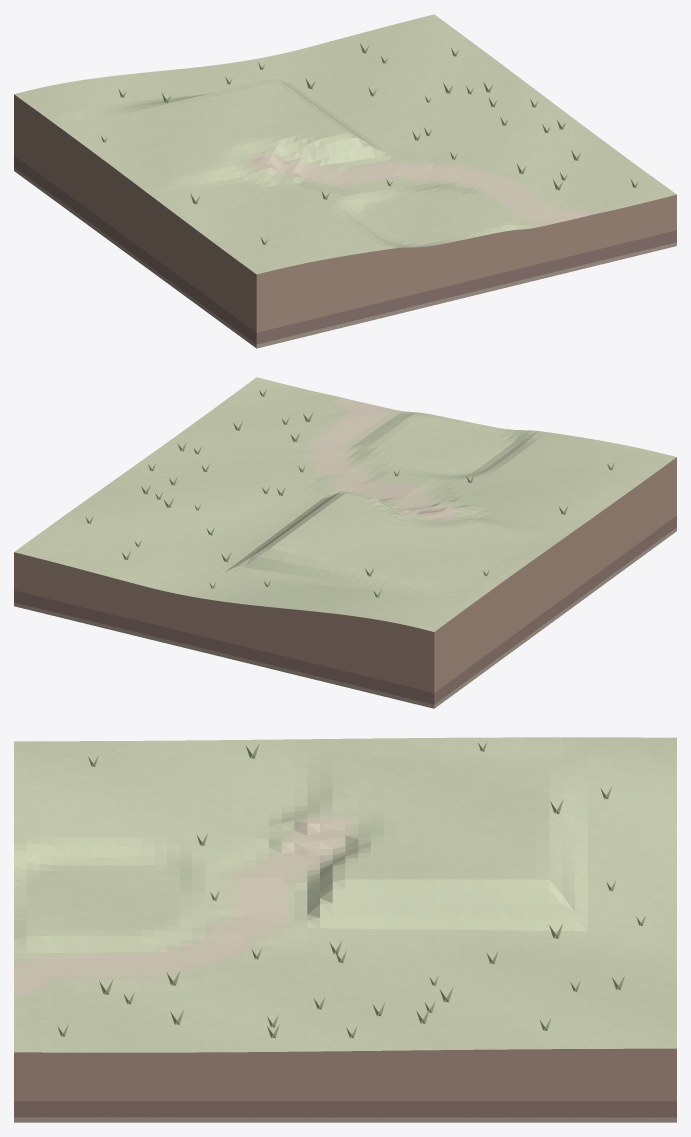
The picture shows the model from 3 angles, top to bottom: view 1: azimuth 30°, elevation 25°; view 2: azimuth 150°, elevation 25°; view 3: azimuth 270°, elevation 25°; orthographic projection. The views are drawn at different scales.
Parts seen in each view (by area): view 1: proc_ground, proc_skirt, proc_grass; view 2: proc_ground, proc_skirt, proc_grass; view 3: proc_ground, proc_skirt, proc_grass.
Part boxes in pixels (<box>): proc_ground: <box>14,14,676,274</box>; proc_skirt: <box>14,94,676,348</box>; proc_grass: <box>101,43,638,244</box>; proc_ground: <box>14,377,676,631</box>; proc_skirt: <box>14,457,676,708</box>; proc_grass: <box>85,389,614,597</box>; proc_ground: <box>14,737,676,1052</box>; proc_skirt: <box>14,1048,676,1122</box>; proc_grass: <box>57,741,645,1038</box>.
Size of the model in its own units: 8 by 1.53 by 8.
